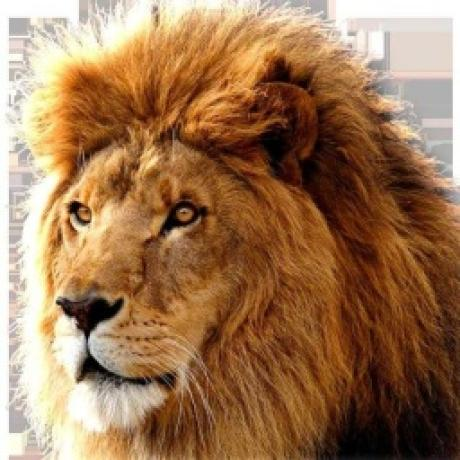Lion: (22, 2, 458, 460)
